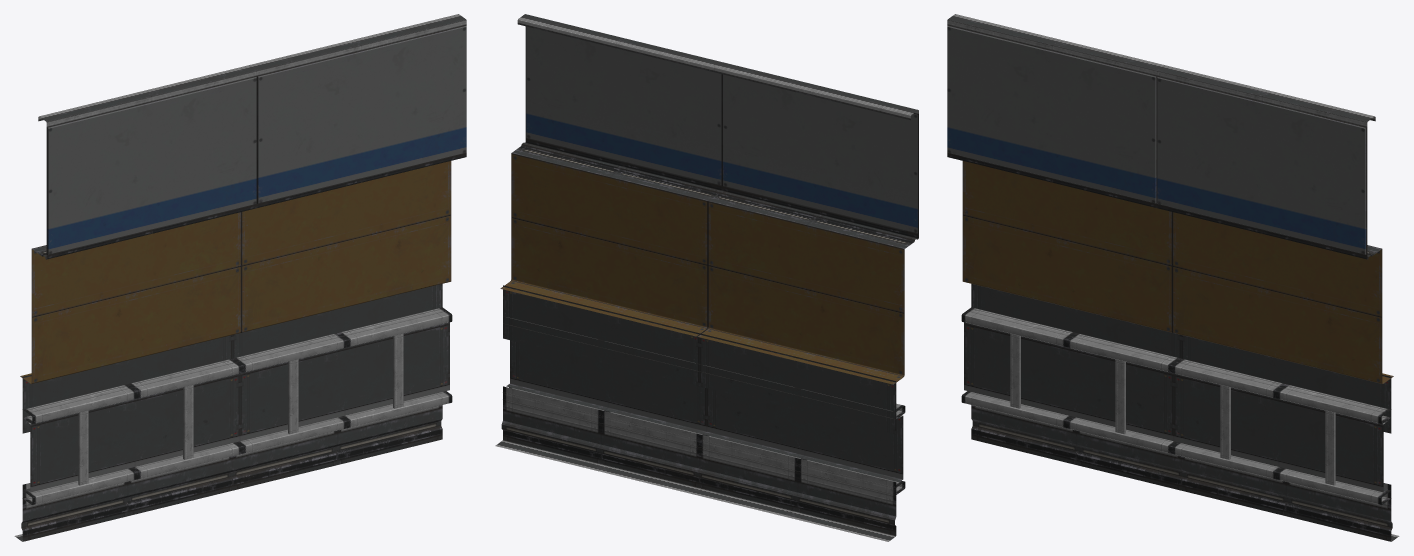
File: Subway_Wall_Large1.fbx
3 views of the same model, side by side, from view 1: azimuth 30°, elevation 25°; view 2: azimuth 150°, elevation 25°; view 3: azimuth 330°, elevation 25° (orthographic). The views are drawn at different scales.
Visible parts, largest first — view 1: polySurface157; view 2: polySurface157; view 3: polySurface157.
Part boxes in pixels (x1,y1,x2,y2): polySurface157: (14, 14, 466, 541); polySurface157: (495, 14, 918, 541); polySurface157: (947, 14, 1399, 541).
Bounding box in the file's own units: 800 × 797 × 110.
